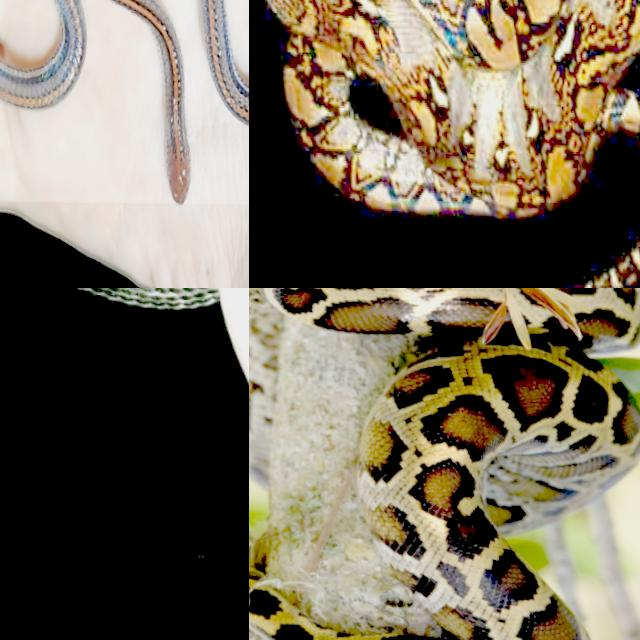Calliophis intestinalis: (110, 0, 189, 202)
Malayopython reticulatus: (268, 0, 639, 216)
Naja siamensis: (86, 288, 248, 380)
Python bivittatus: (249, 288, 639, 639)
